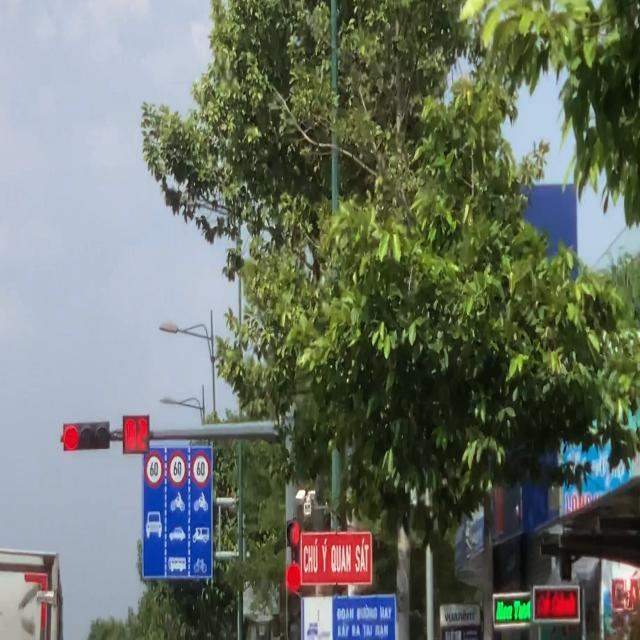Toc do toi da: (191, 451, 211, 487), (144, 451, 164, 487), (168, 452, 188, 486)
